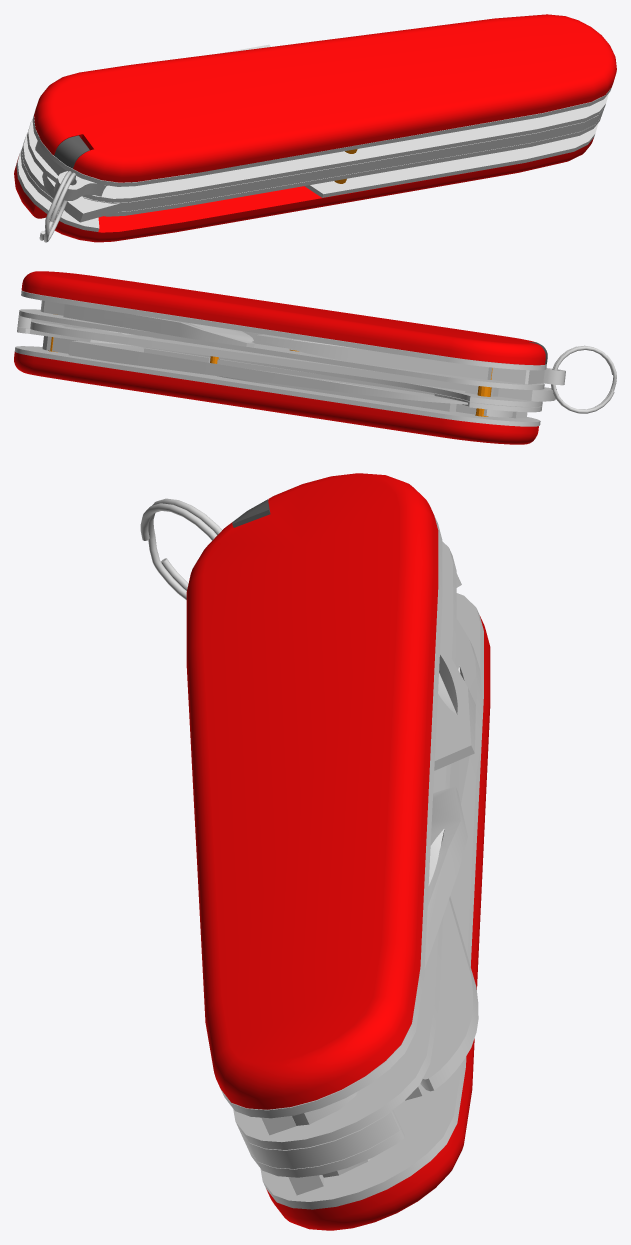
The model's file is SwissArmyKnife.dae.
3 views of the same model, one above another, from view 1: azimuth 30°, elevation 25°; view 2: azimuth 150°, elevation 25°; view 3: azimuth 270°, elevation 25° (orthographic). The views are drawn at different scales.
Visible parts, largest first — view 1: COVERPLATE (×2), DIVIDER (×4), SPRINGS (×2), SAW, KEY_RING, TWEEZER, BOTTLE_OPENER; view 2: COVERPLATE (×2), DIVIDER (×5), BLADE_MAIN, SAW, BOTTLE_OPENER, CAN_OPENER, SPRINGS (×3), BLADE_SMALL, KEY_RING; view 3: COVERPLATE (×2), DIVIDER (×4), SAW, CAN_OPENER, BOTTLE_OPENER, BLADE_MAIN, SPRINGS, KEY_RING.
Part boxes in pixels (x1,y1,x2,y2): COVERPLATE (×2): [14, 14, 616, 242]; DIVIDER (×4): [16, 88, 611, 231]; SPRINGS (×2): [53, 108, 604, 211]; SAW: [42, 173, 120, 222]; KEY_RING: [39, 171, 76, 242]; TWEEZER: [54, 135, 89, 168]; BOTTLE_OPENER: [35, 44, 270, 181]; COVERPLATE (×2): [14, 271, 545, 444]; DIVIDER (×5): [14, 290, 546, 426]; BLADE_MAIN: [42, 336, 467, 404]; SAW: [30, 321, 556, 401]; BOTTLE_OPENER: [255, 334, 548, 384]; CAN_OPENER: [40, 300, 254, 346]; SPRINGS (×3): [17, 315, 565, 418]; BLADE_SMALL: [217, 376, 512, 417]; KEY_RING: [551, 345, 616, 413]; COVERPLATE (×2): [186, 473, 490, 1230]; DIVIDER (×4): [221, 516, 483, 1209]; SAW: [420, 896, 478, 1091]; CAN_OPENER: [292, 786, 467, 1125]; BOTTLE_OPENER: [434, 639, 475, 770]; BLADE_MAIN: [322, 619, 482, 1177]; SPRINGS: [239, 1110, 400, 1168]; KEY_RING: [140, 498, 221, 599].
Bounding box in the file's own units: 961 × 265 × 262.
